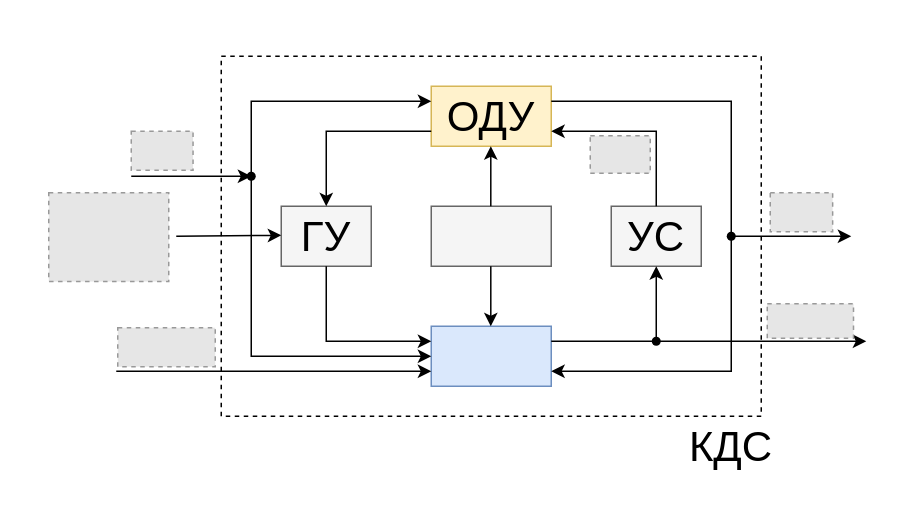
This 906x516 diagram has some shape labels left out. Grey dashed boxes stand in for pictures. Each missing label, with the box of its shape:
НУ: (430, 205, 551, 266)
УЧП: (430, 325, 551, 386)
